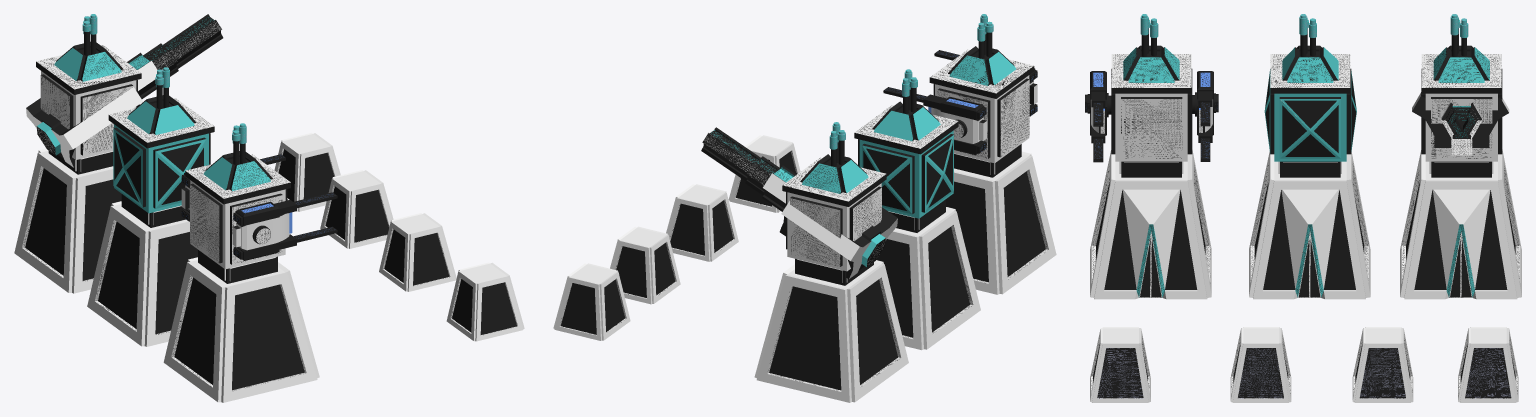
File: largeship.dae
3 views of the same model, side by side, from view 1: azimuth 30°, elevation 25°; view 2: azimuth 150°, elevation 25°; view 3: azimuth 270°, elevation 25° (orthographic). The views are drawn at different scales.
Visible parts, largest first — view 1: SketchUp (×45), Earth_shock_cannon (×4), Long_Range_Alican_Empire_Turret_1, Long_Range_Alican_Empire_Turret; view 2: SketchUp (×44), Earth_shock_cannon (×5), Long_Range_Alican_Empire_Turret_1, Long_Range_Alican_Empire_Turret; view 3: SketchUp (×49), Earth_shock_cannon (×2).
Part boxes in pixels (x1,y1,x2,y2): SketchUp (×45): (14, 45, 524, 402); Earth_shock_cannon (×4): (26, 20, 223, 167); Long_Range_Alican_Empire_Turret_1: (236, 213, 289, 250); Long_Range_Alican_Empire_Turret: (235, 201, 279, 225); SketchUp (×44): (553, 49, 1056, 402); Earth_shock_cannon (×5): (701, 133, 897, 279); Long_Range_Alican_Empire_Turret_1: (931, 107, 983, 143); Long_Range_Alican_Empire_Turret: (940, 96, 984, 120); SketchUp (×49): (1090, 45, 1521, 402); Earth_shock_cannon (×2): (1412, 92, 1508, 155).
Size of the model in its own units: 706871 by 842581 by 549694.
